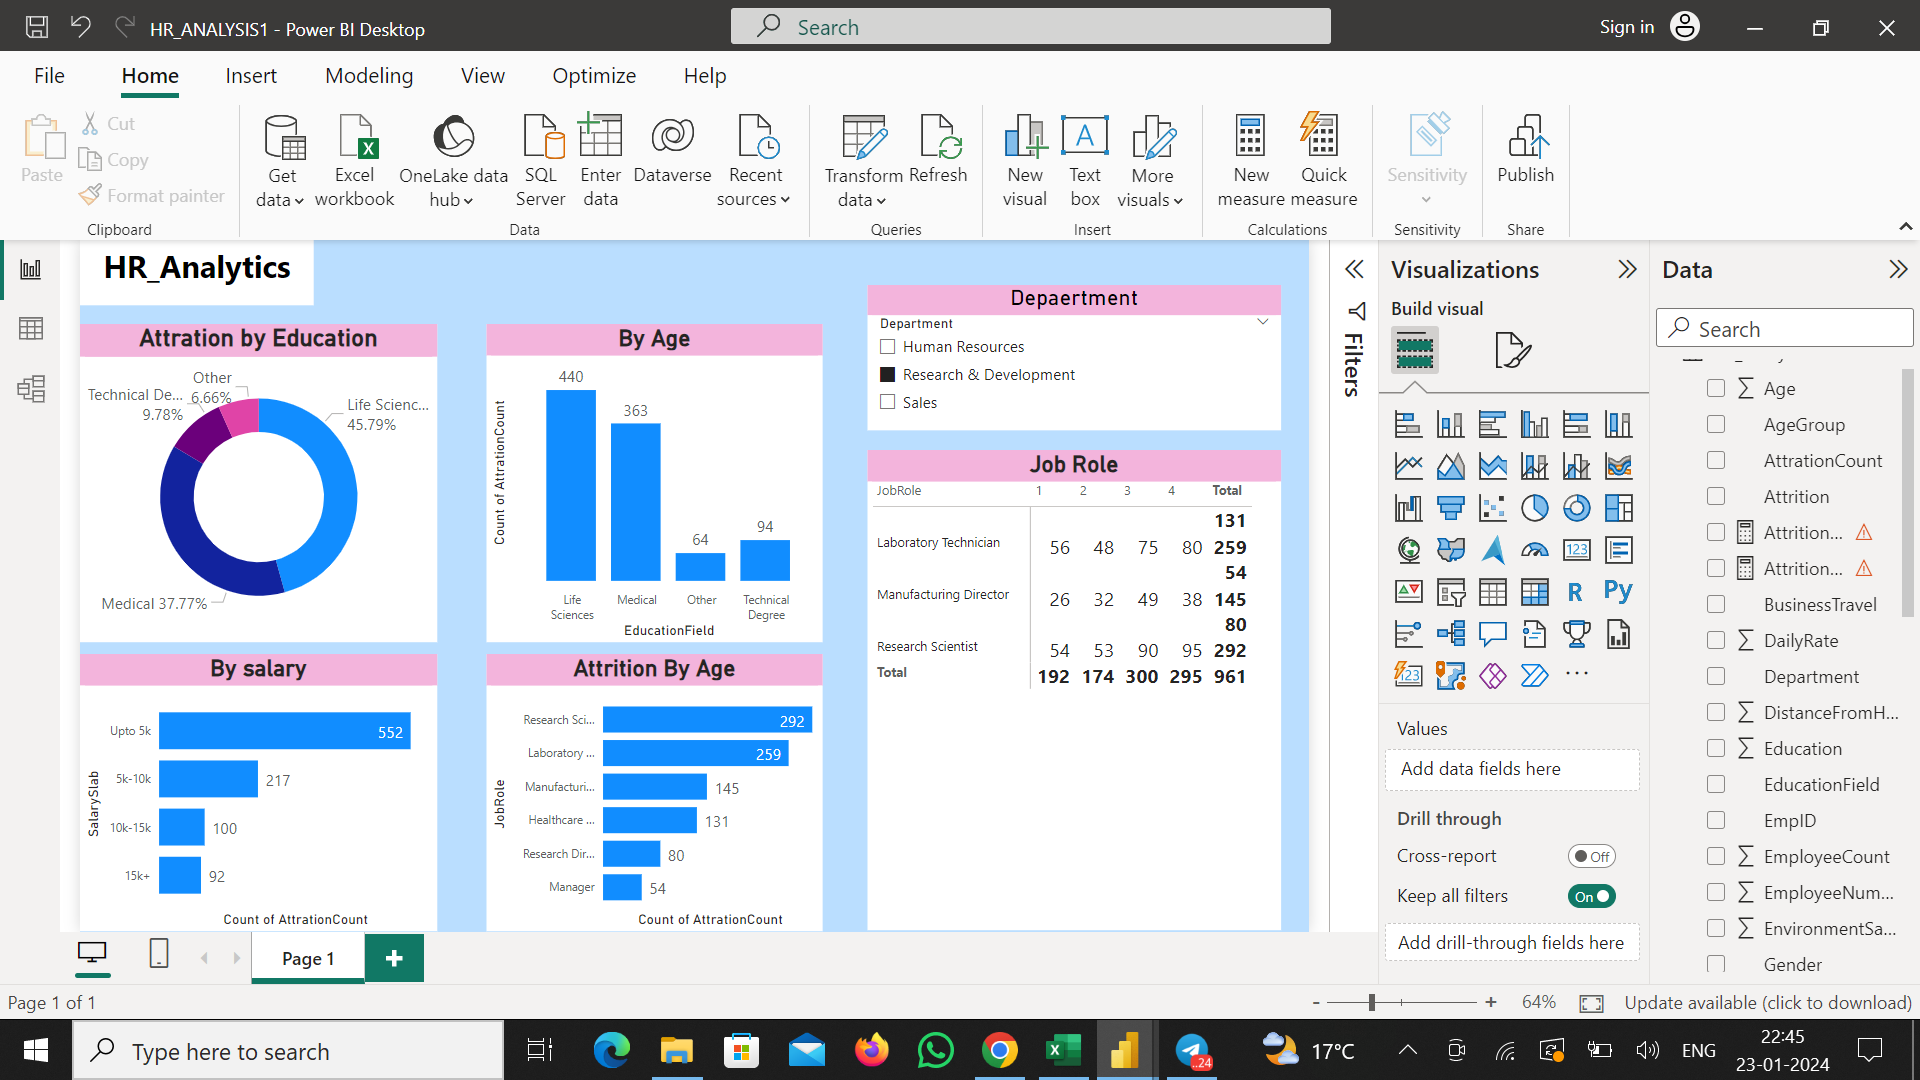

The page's visual inventory and layout, read from the dashboard file:
{"tool":"powerbi","page":{"name":"Page 1","canvas":[1280,720],"ordinal":0},"visuals":[{"type":"donutChart","title":"Attration by Education","fields":{"Category":["HR_Analytics.EducationField"],"Y":["CountNonNull(HR_Analytics.AttrationCount)"]},"box":[0,87.5,371.7,331.1],"z":0},{"type":"columnChart","title":"By Age","fields":{"Category":["HR_Analytics.EducationField","HR_Analytics.AgeGroup"],"Y":["CountNonNull(HR_Analytics.AttrationCount)"]},"box":[423.3,87.5,349.8,331.1],"z":1000},{"type":"pivotTable","title":"Job Role","fields":{"Values":["CountNonNull(HR_Analytics.AttrationCount)"],"Rows":["HR_Analytics.JobRole"],"Columns":["HR_Analytics.JobSatisfaction"]},"box":[819.4,219,430.4,500.3],"z":2000},{"type":"barChart","title":"By salary","fields":{"Category":["HR_Analytics.SalarySlab"],"Y":["CountNonNull(HR_Analytics.AttrationCount)"]},"box":[0,431.1,371.7,288.9],"z":3000},{"type":"barChart","title":"Attrition By Age","fields":{"Category":["HR_Analytics.JobRole"],"Y":["CountNonNull(HR_Analytics.AttrationCount)"]},"box":[423.3,431.1,349.8,288.9],"z":4000},{"type":"slicer","title":"Depaertment","fields":{"Values":["HR_Analytics.Department"]},"box":[819.4,47.2,430.4,151],"z":4001},{"type":"textbox","box":[0,0,243.5,68],"z":4002}]}

Visuals, with their boxes on the page's 1280x720 design canvas (x1, y1, x2, y2). These are canvas units, not pixel positions in the 1920x1080 screenshot, which may show the page scaled, cropped or inside an application window:
"Attration by Education" donutChart: [0,88,372,419]
"By Age" columnChart: [423,88,773,419]
"Job Role" pivotTable: [819,219,1250,719]
"By salary" barChart: [0,431,372,720]
"Attrition By Age" barChart: [423,431,773,720]
"Depaertment" slicer: [819,47,1250,198]
textbox: [0,0,244,68]
